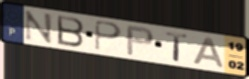A: (191, 36, 226, 70)
B: (55, 14, 86, 49)
N: (23, 9, 54, 46)
P: (125, 25, 156, 57), (94, 19, 124, 52)
T: (164, 30, 189, 63)
